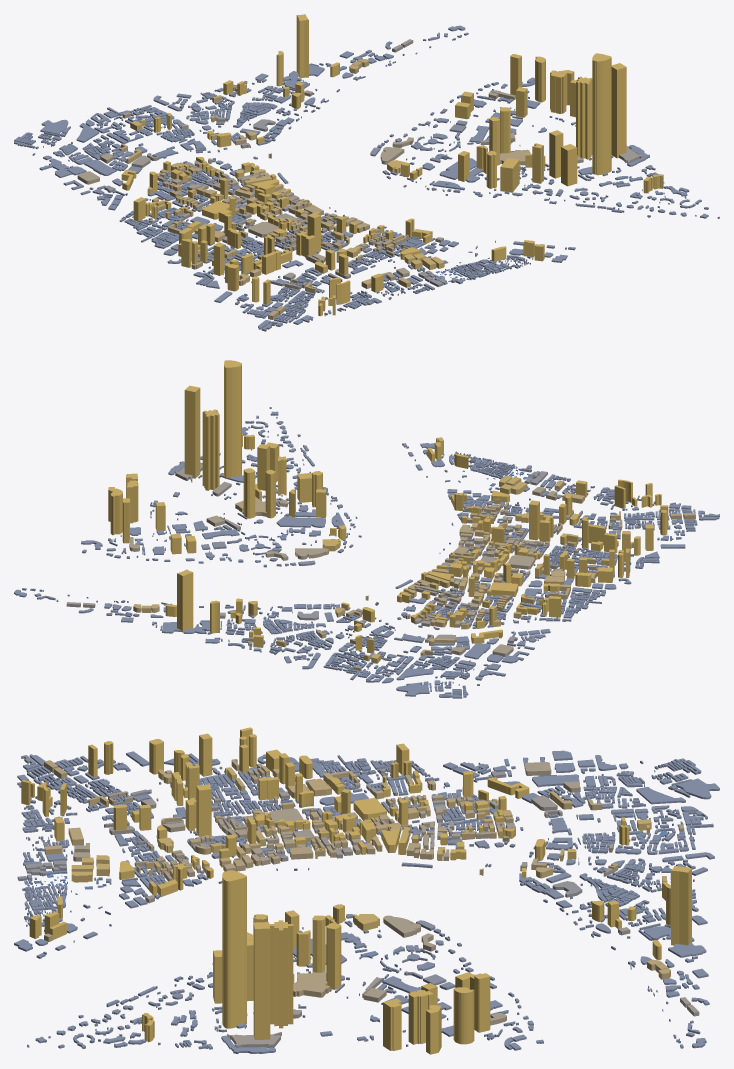
Rendered from buildings.glb.
3 renders of one model, top to bottom at view 1: azimuth 30°, elevation 25°; view 2: azimuth 150°, elevation 25°; view 3: azimuth 270°, elevation 25°, orthographic. The views are drawn at different scales.
Parts seen in each view (by area): view 1: buildings; view 2: buildings; view 3: buildings.
Boxes of the visible parts, x1,y1,x2,y2 form: buildings: (14, 14, 719, 331); buildings: (14, 360, 719, 698); buildings: (14, 727, 719, 1054).
Bounding box in the file's own units: 2769 × 635 × 2742.
